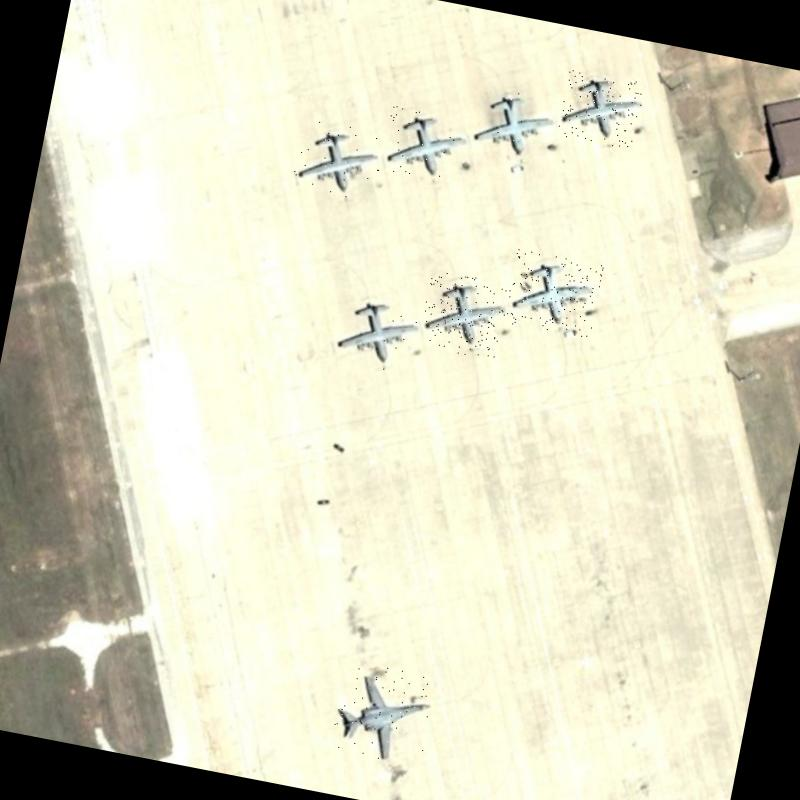A10: (329, 659, 440, 768)
A2: (503, 248, 604, 340), (417, 268, 510, 360), (465, 80, 560, 168), (290, 118, 386, 204), (326, 293, 420, 376), (380, 103, 472, 185), (556, 68, 646, 150)
